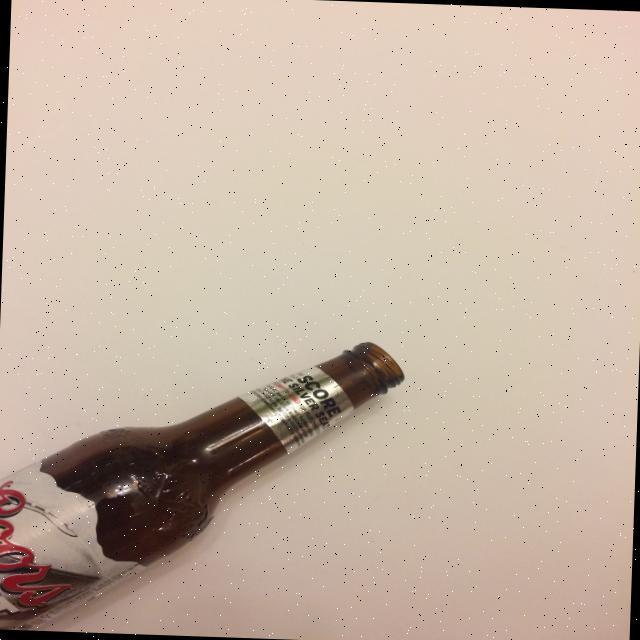glass: (0, 326, 406, 638)
